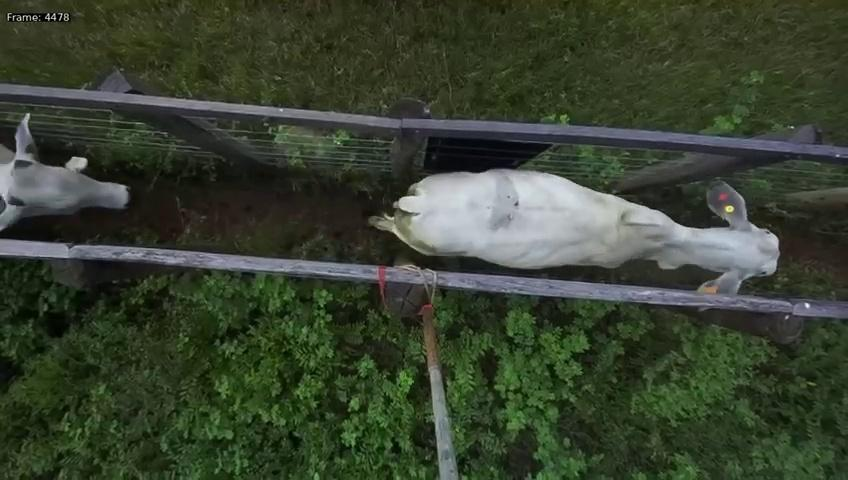cattle: (390, 161, 782, 294), (1, 112, 130, 241)
